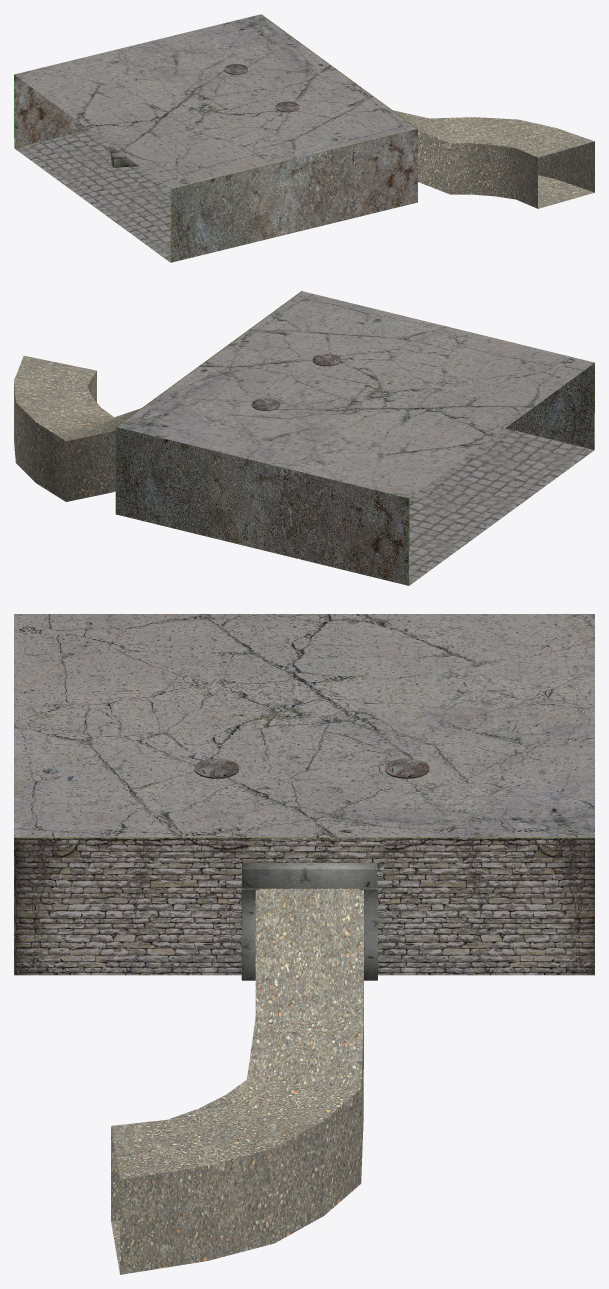
Rendered from menu.FBX.
3 views of the same model, one above another, from view 1: azimuth 30°, elevation 25°; view 2: azimuth 150°, elevation 25°; view 3: azimuth 270°, elevation 25° (orthographic). The views are drawn at different scales.
Parts seen in each view (by area): view 1: Holl, lestnica; view 2: Holl, lestnica; view 3: Holl, lestnica, perekritie.
Boxes of the visible parts, x1,y1,x2,y2 form: Holl: (14, 14, 417, 262); lestnica: (393, 110, 594, 208); Holl: (115, 291, 594, 585); lestnica: (14, 355, 140, 501); Holl: (14, 614, 594, 975); lestnica: (111, 888, 363, 1274); perekritie: (241, 863, 377, 980).
Size of the model in its own units: 752 by 216 by 450.
